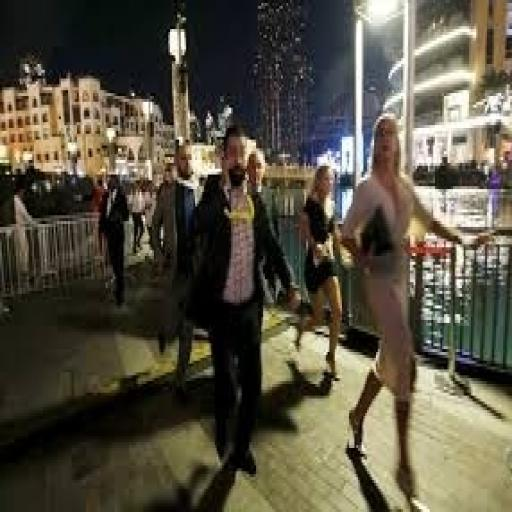running: (337, 108, 494, 503), (184, 119, 312, 480)
